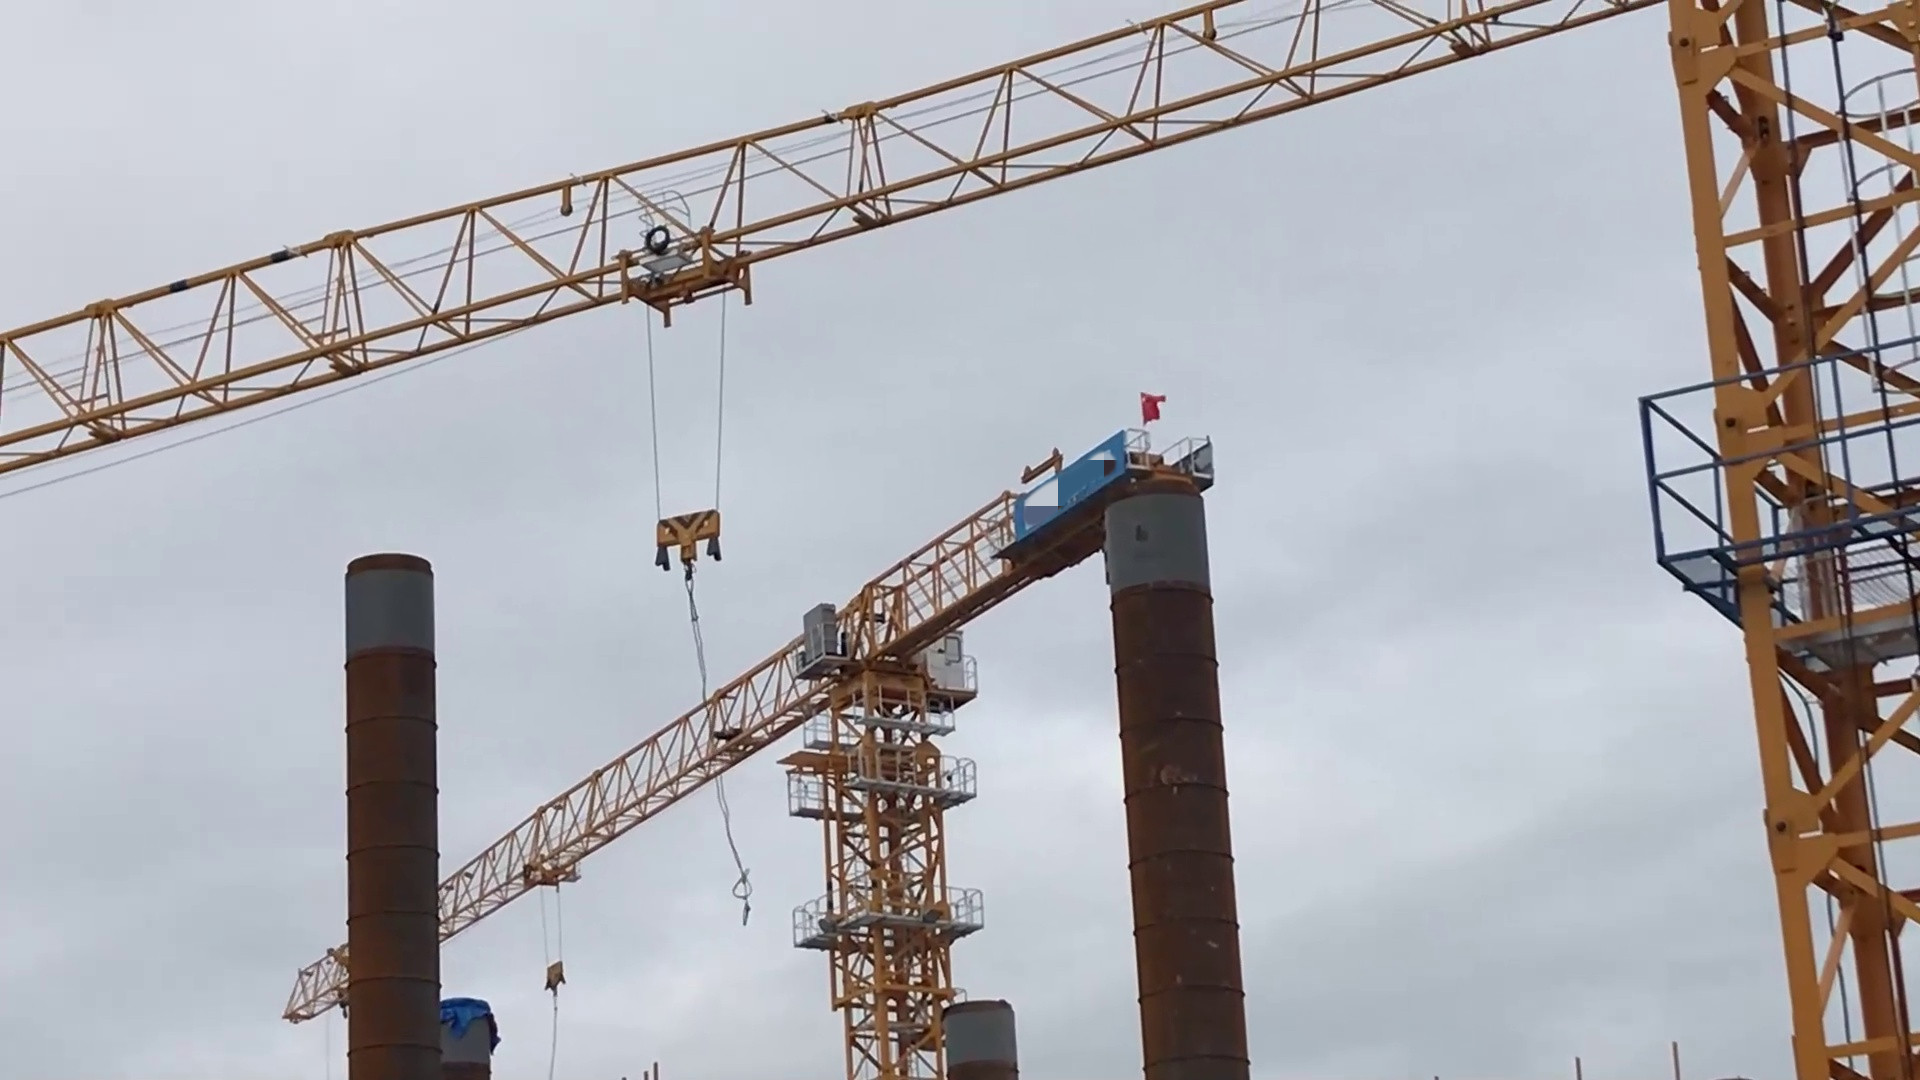hook: (640, 504, 742, 593)
